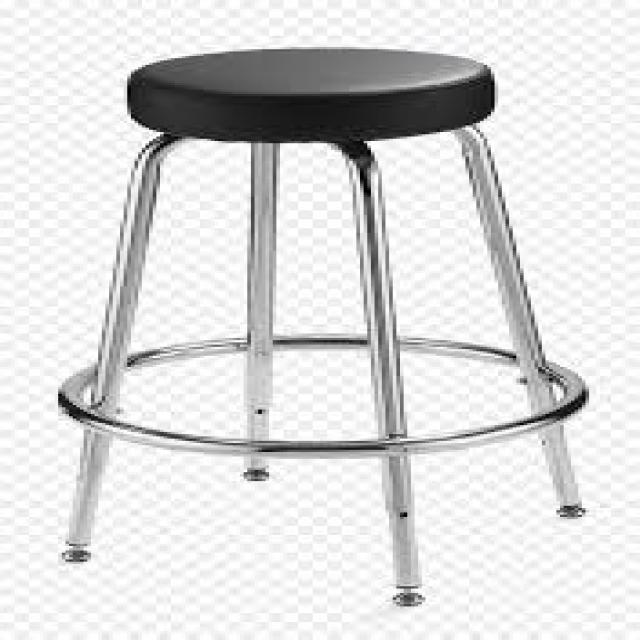chair: (65, 45, 591, 611)
